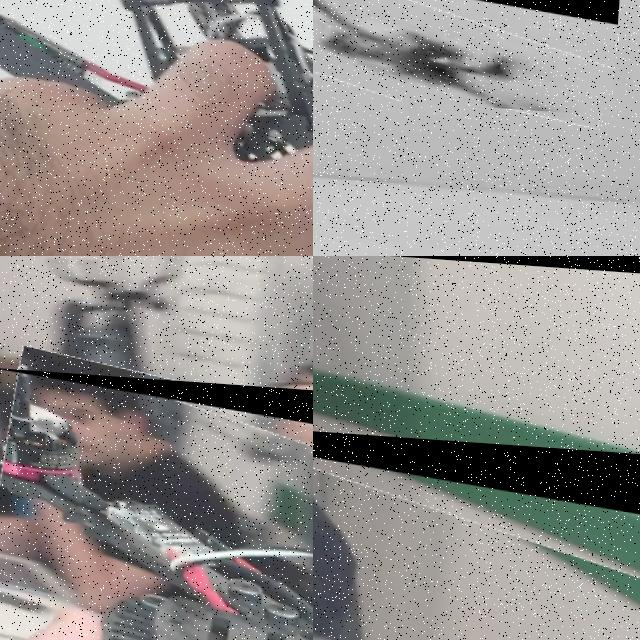drone: (0, 366, 313, 640), (0, 0, 313, 256), (313, 413, 640, 640), (313, 0, 620, 115)
